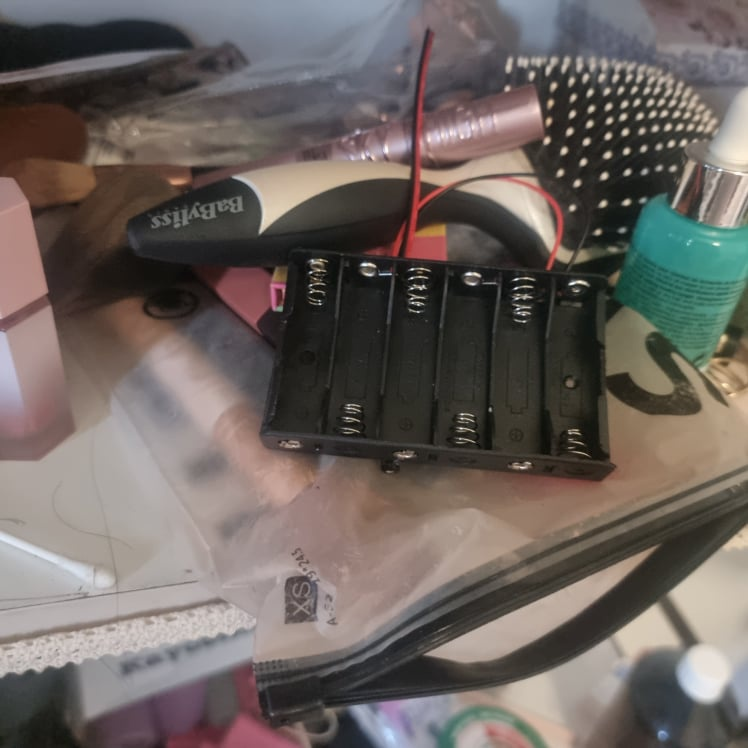BATTERY BOX: (260, 249, 619, 484)
